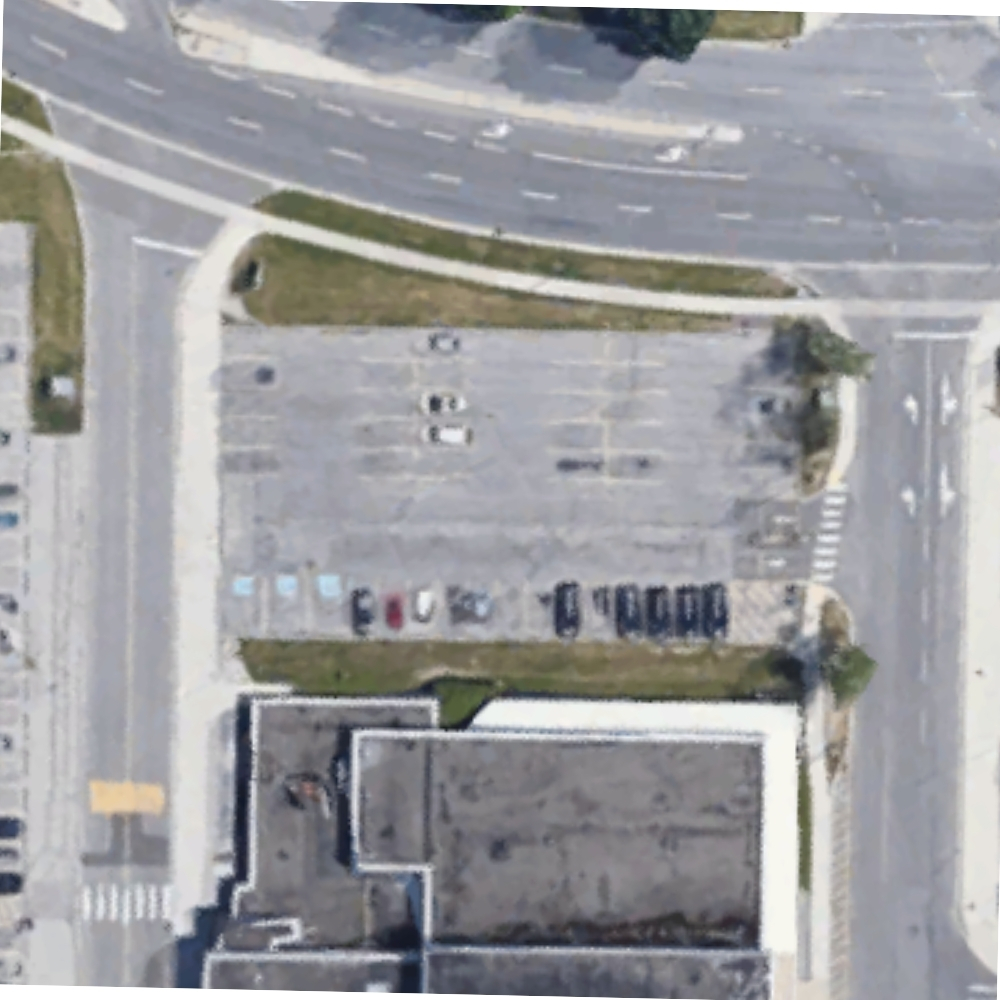parking: (220, 325, 795, 645)
